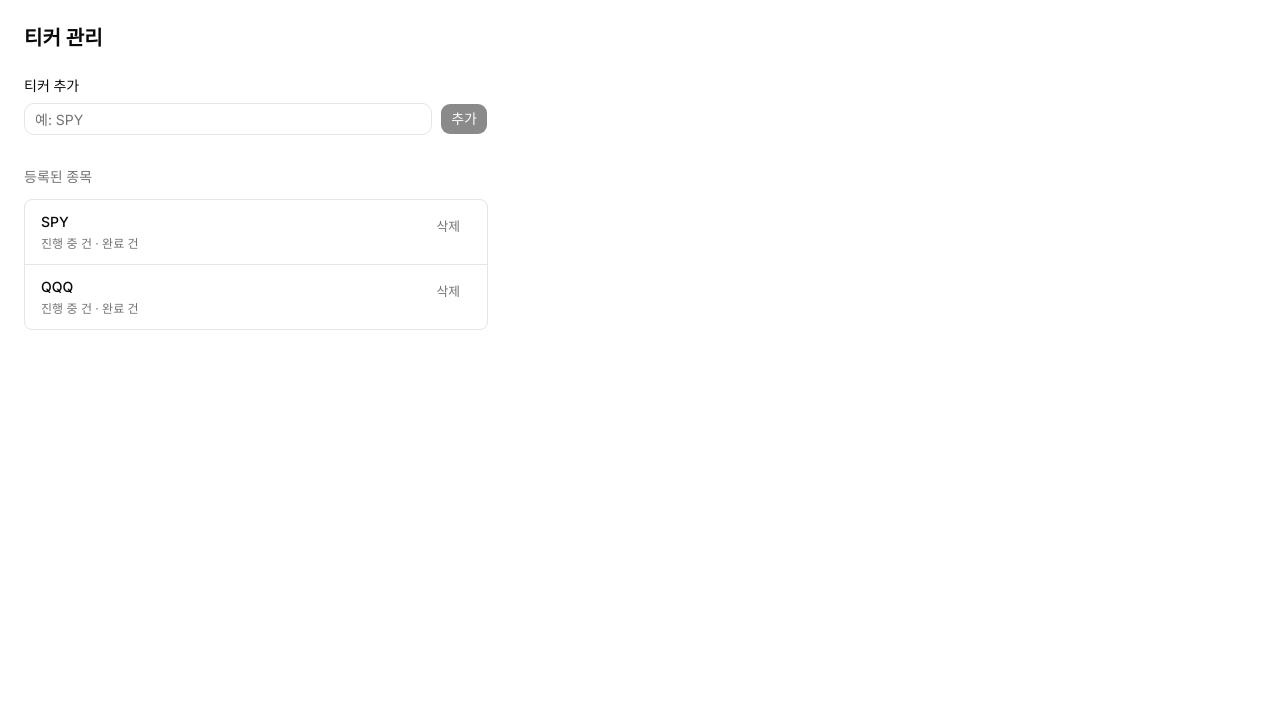
Test: TickerManager › shows confirmation dialog when deleting ticker with no transactions
This screenshot has width=1280, height=720.
Click the button "삭제" in the row of "SPY" at coordinates (448, 226), box [426,212,471,240]
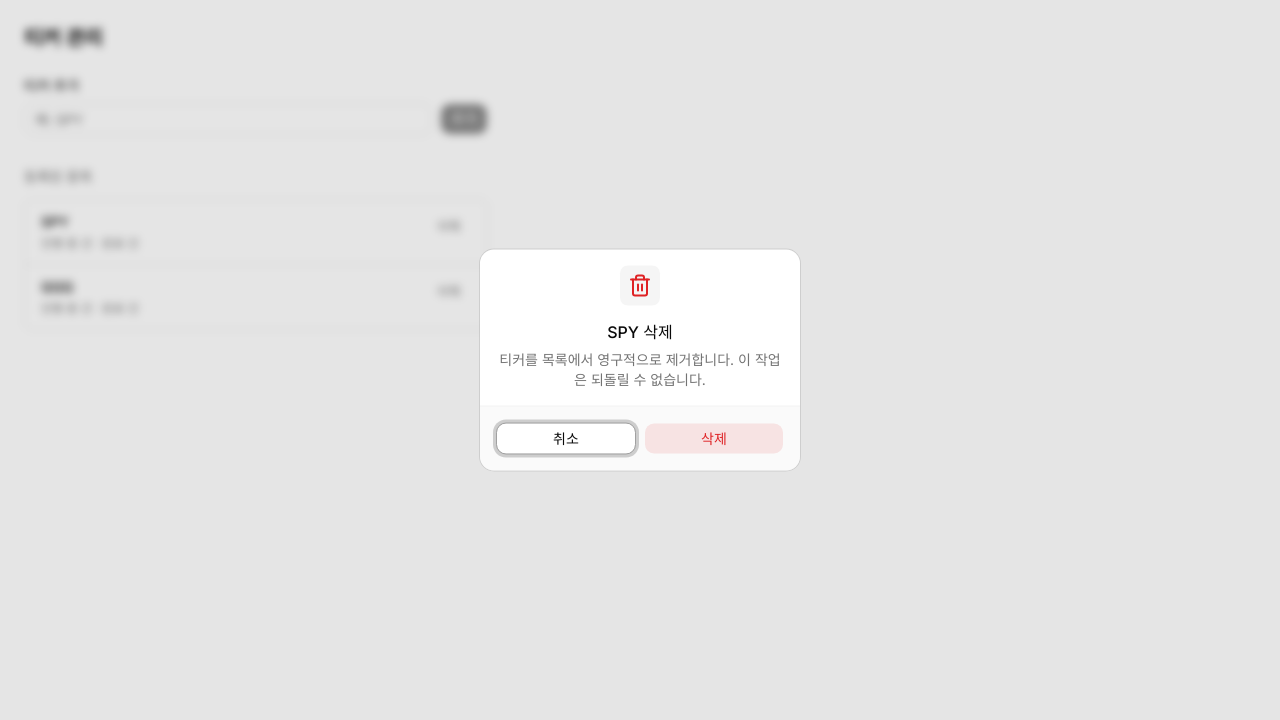
Result: the dialog is shown at [480,250,800,470]
Result: the button "취소" is shown at [496,422,636,454]
